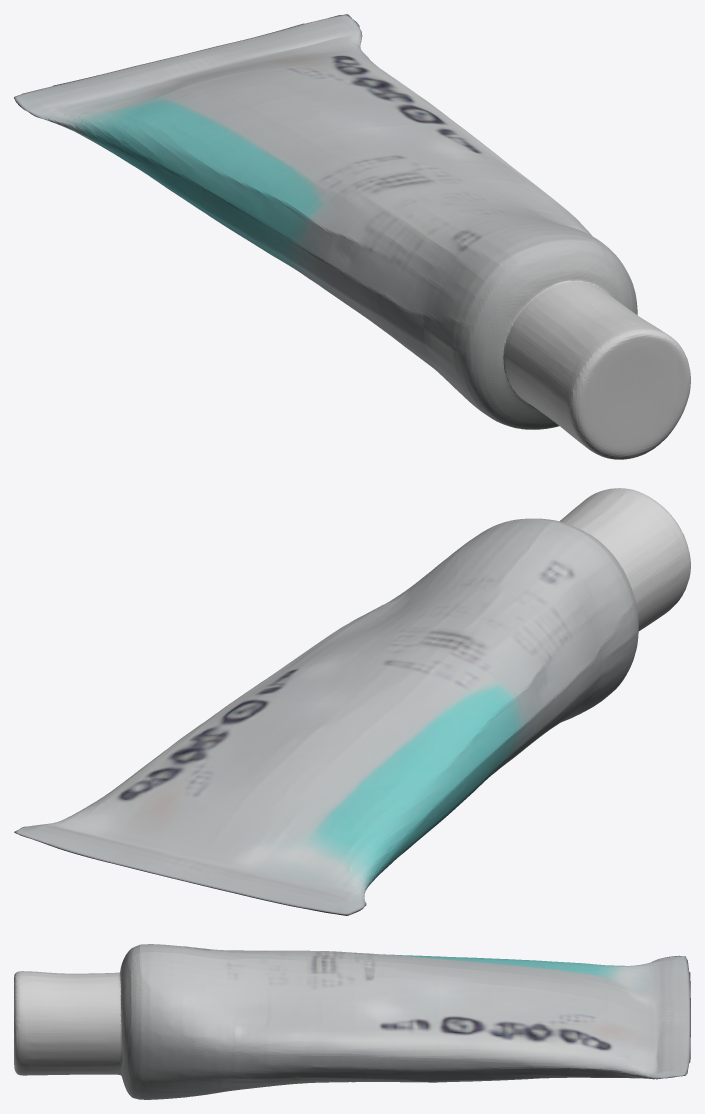
The model's file is set4_obj3.glb.
3 renders of one model, top to bottom at view 1: azimuth 30°, elevation 25°; view 2: azimuth 150°, elevation 25°; view 3: azimuth 270°, elevation 25°, orthographic. The views are drawn at different scales.
Parts seen in each view (by area): view 1: world; view 2: world; view 3: world.
Boxes of the visible parts, bbox=[...] form: world: bbox=[14, 14, 690, 459]; world: bbox=[14, 488, 690, 915]; world: bbox=[14, 944, 690, 1099].
Size of the model in its own units: 0.4233 by 0.2216 by 0.9952.
